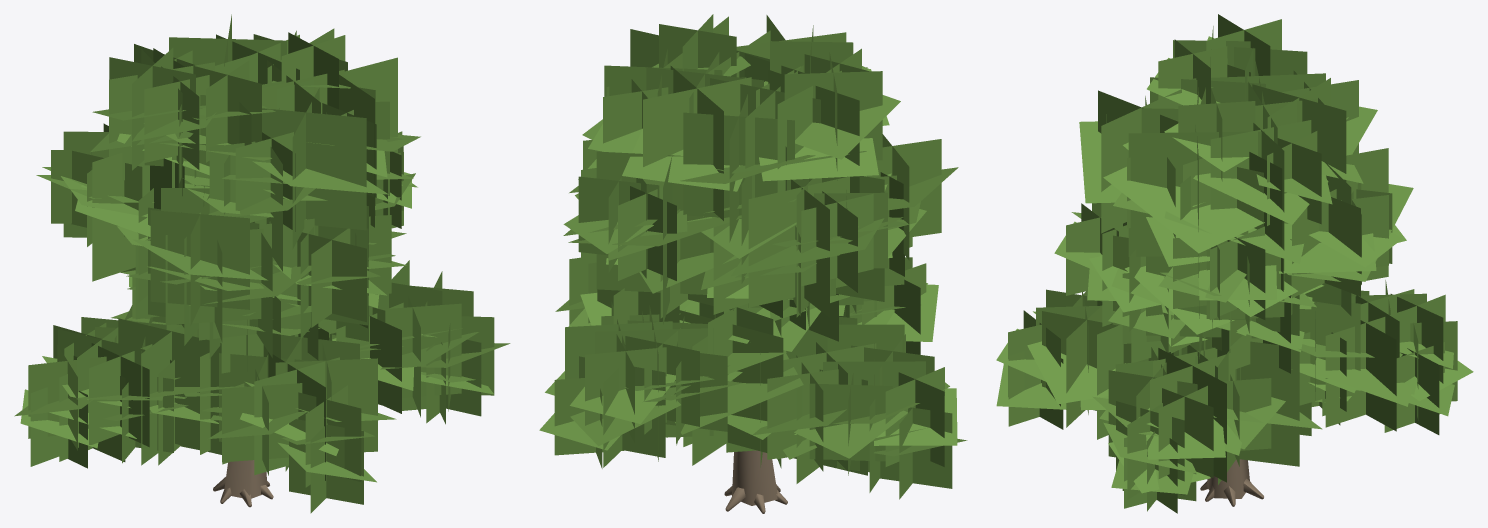
The model's file is pommier_5_f3_loin.glb.
The picture shows the model from 3 angles, left to right: view 1: azimuth 30°, elevation 25°; view 2: azimuth 150°, elevation 25°; view 3: azimuth 270°, elevation 25°; orthographic projection. The views are drawn at different scales.
Visible parts, largest first — view 1: Pommier_T5_f3_Leger_Loin; view 2: Pommier_T5_f3_Leger_Loin; view 3: Pommier_T5_f3_Leger_Loin.
Part boxes in pixels (bbox=[...]): Pommier_T5_f3_Leger_Loin: bbox=[14, 14, 510, 513]; Pommier_T5_f3_Leger_Loin: bbox=[539, 14, 967, 513]; Pommier_T5_f3_Leger_Loin: bbox=[996, 14, 1473, 513].
Bounding box in the file's own units: 9.91 × 9.88 × 10.06.
